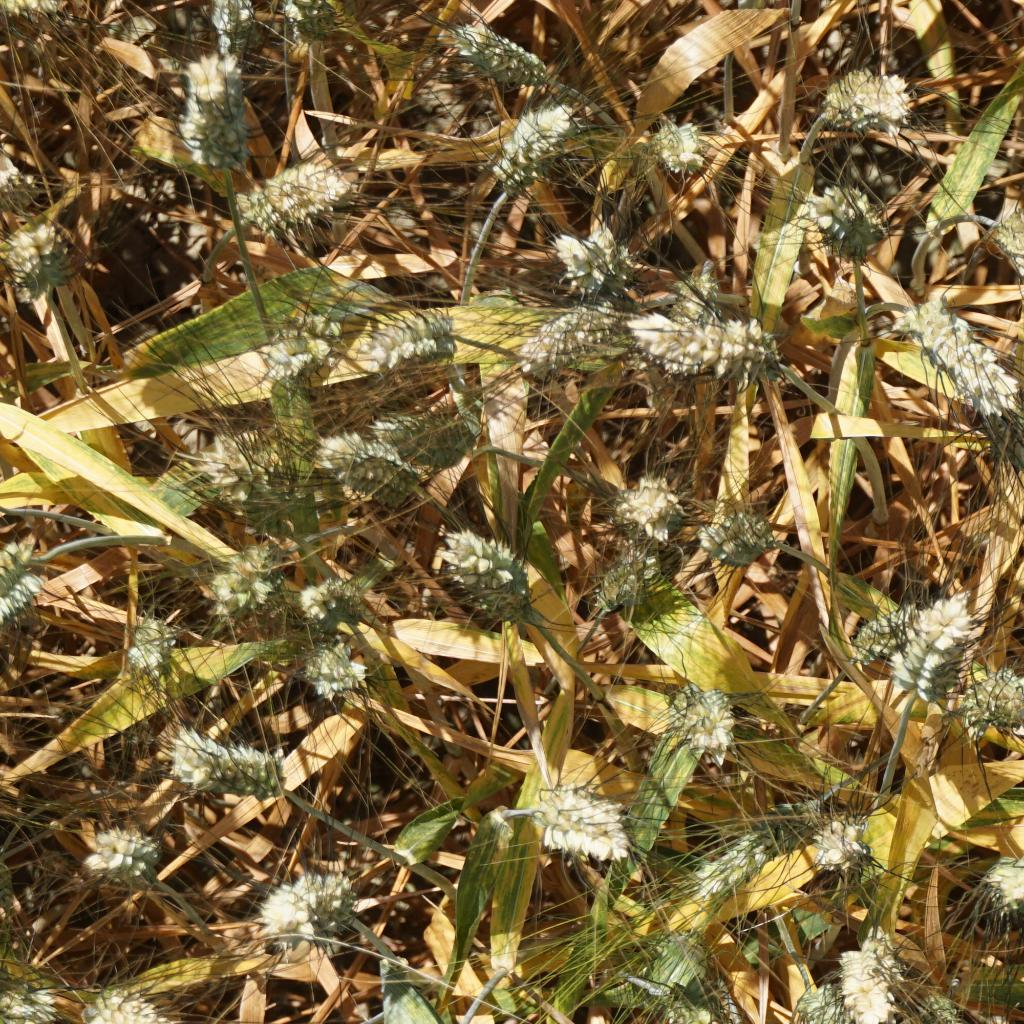0-0: (904, 290, 1024, 417), (169, 723, 294, 811), (431, 519, 535, 624), (252, 866, 364, 957), (174, 43, 252, 171), (478, 92, 580, 188), (699, 818, 799, 905), (323, 430, 434, 502), (525, 301, 635, 373), (237, 162, 351, 231), (520, 780, 614, 863), (906, 598, 975, 709), (818, 60, 913, 139), (75, 809, 161, 894), (651, 314, 771, 374), (186, 428, 275, 508), (374, 402, 485, 466), (0, 532, 54, 663), (451, 19, 551, 89), (301, 636, 396, 708), (246, 312, 353, 370), (0, 221, 86, 293), (964, 392, 1024, 495), (800, 181, 884, 251), (669, 281, 722, 391), (577, 545, 657, 615), (611, 472, 683, 547), (699, 504, 778, 572), (357, 318, 460, 370), (668, 690, 742, 760), (211, 547, 281, 620), (552, 230, 636, 290), (842, 934, 896, 1024), (65, 979, 171, 1024), (811, 812, 878, 878), (299, 573, 371, 629), (986, 192, 1024, 294), (650, 979, 732, 1024), (649, 119, 712, 175), (851, 601, 907, 662), (126, 614, 180, 677), (0, 970, 61, 1024), (984, 849, 1024, 926), (780, 983, 850, 1024), (986, 662, 1024, 729), (292, 0, 344, 43), (919, 984, 969, 1024), (217, 0, 265, 37), (0, 150, 29, 200), (0, 844, 18, 912)
